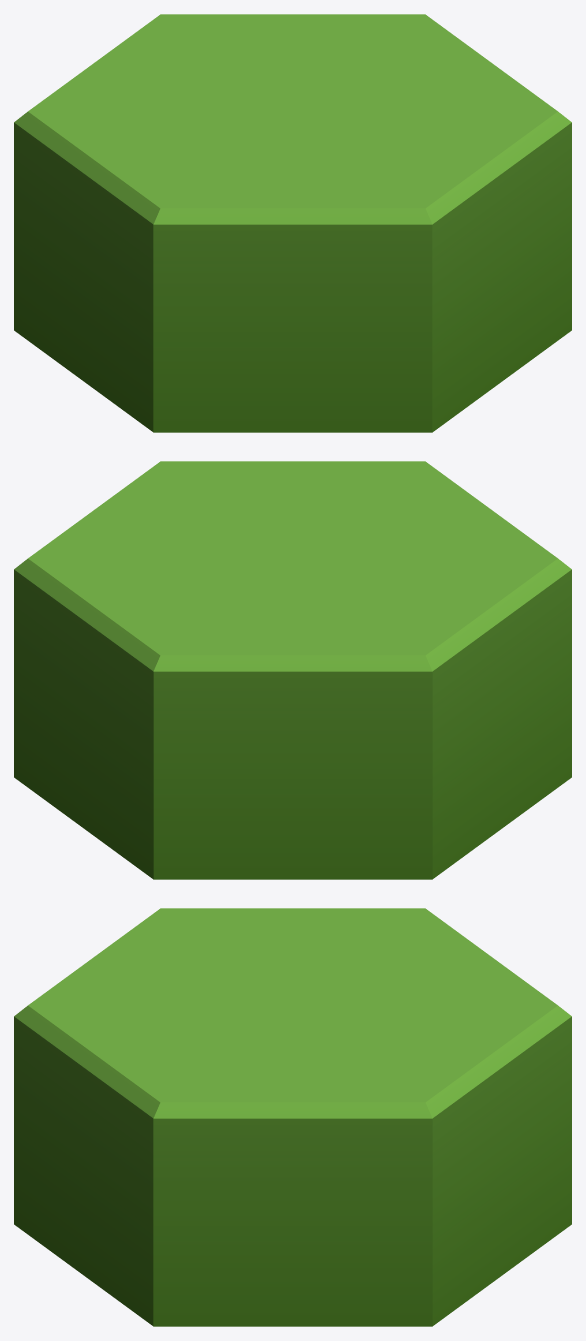
File: hex_grass.glb
3 renders of one model, top to bottom at view 1: azimuth 30°, elevation 25°; view 2: azimuth 150°, elevation 25°; view 3: azimuth 270°, elevation 25°, orthographic.
Visible parts, largest first — view 1: hex_grass; view 2: hex_grass; view 3: hex_grass.
Part boxes in pixels (x1=…): hex_grass: x1=14, y1=14, x2=571, y2=432; hex_grass: x1=14, y1=461, x2=571, y2=879; hex_grass: x1=14, y1=908, x2=571, y2=1326.
Bounding box in the file's own units: 2 × 1 × 2.31.
Materials: 1 (1 with a texture image).
